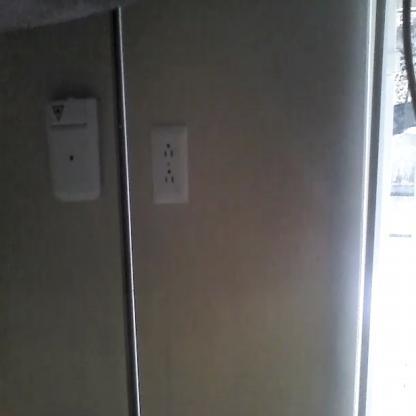OUTLET: (150, 125, 189, 205)
